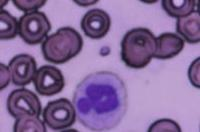N: (72, 70, 130, 132)
